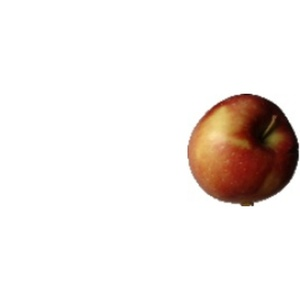maçã braeburn: (184, 93, 300, 207)
